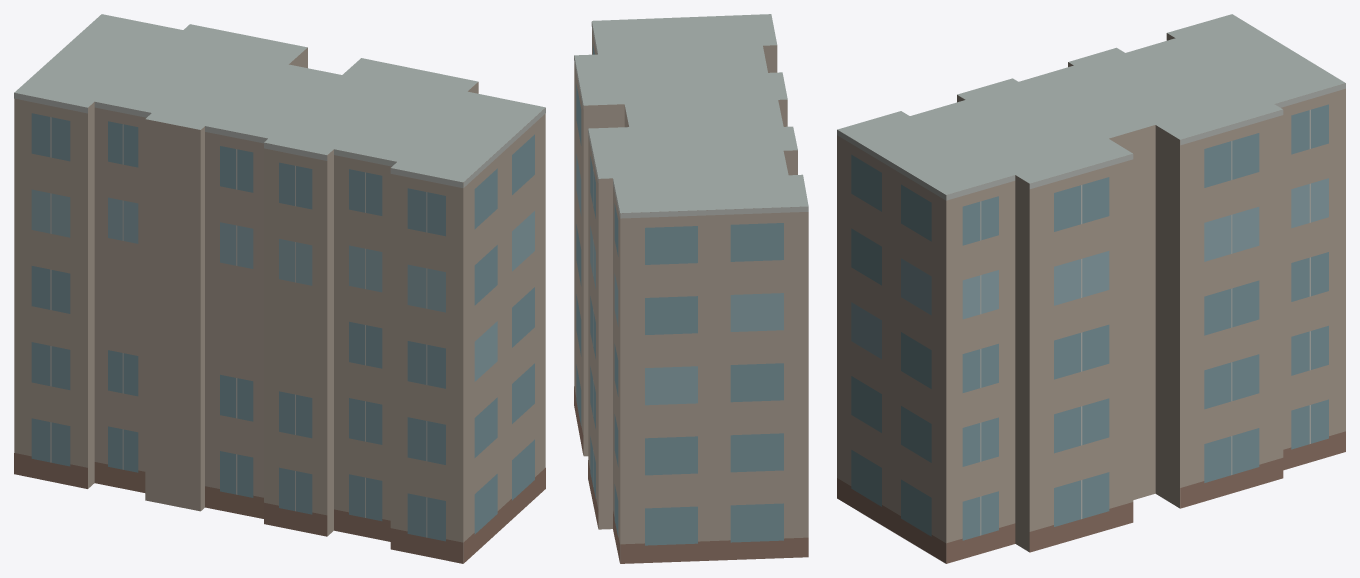
File: survey-upis-33007008.glb
The picture shows the model from 3 angles, left to right: view 1: azimuth 30°, elevation 25°; view 2: azimuth 150°, elevation 25°; view 3: azimuth 270°, elevation 25°; orthographic projection. The views are drawn at different scales.
Visible parts, largest first — view 1: survey-upis-33007008.tmp; view 2: survey-upis-33007008.tmp; view 3: survey-upis-33007008.tmp.
Part boxes in pixels (x1=…): survey-upis-33007008.tmp: x1=14, y1=14, x2=545, y2=563; survey-upis-33007008.tmp: x1=574, y1=14, x2=808, y2=563; survey-upis-33007008.tmp: x1=837, y1=14, x2=1345, y2=563.
Size of the model in its own units: 16.86 by 16 by 20.01.
